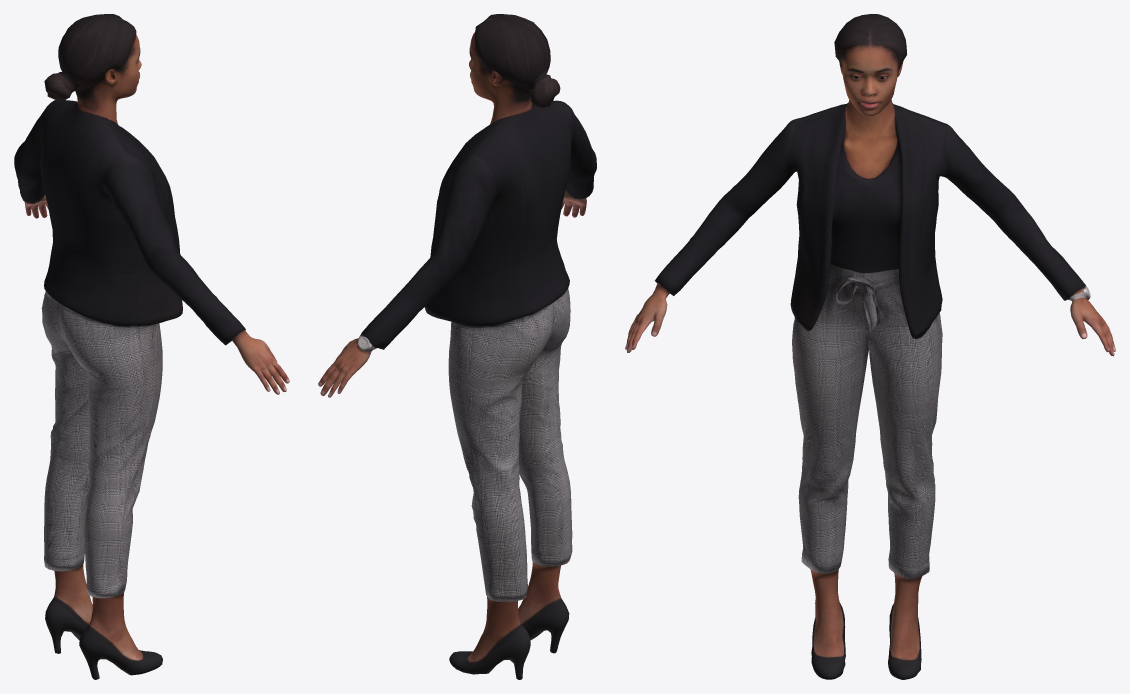
3 renders of one model, left to right at view 1: azimuth 30°, elevation 25°; view 2: azimuth 150°, elevation 25°; view 3: azimuth 270°, elevation 25°, orthographic.
Visible parts, largest first — view 1: rp_carla_rigged_001_geo; view 2: rp_carla_rigged_001_geo; view 3: rp_carla_rigged_001_geo.
Boxes of the visible parts, x1,y1,x2,y2 form: rp_carla_rigged_001_geo: [14, 14, 289, 679]; rp_carla_rigged_001_geo: [318, 14, 596, 679]; rp_carla_rigged_001_geo: [625, 14, 1115, 679].
Bounding box in the file's own units: 0.3502 × 1.73 × 1.2.
Materials: 1 (1 with a texture image).
